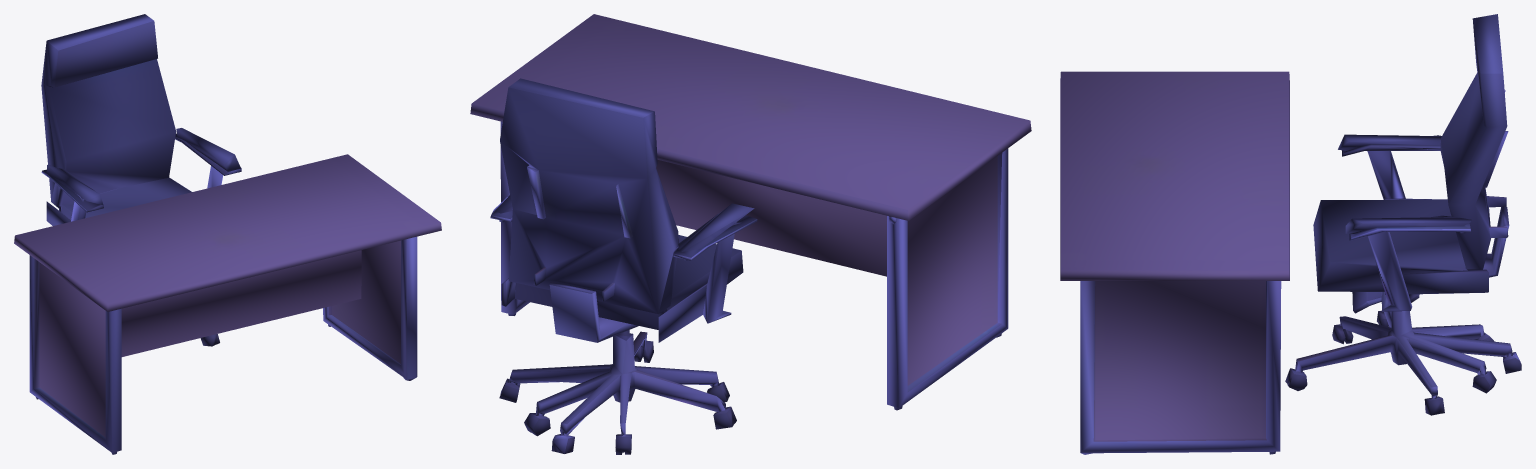
The model's file is model.progressive.glb.
The picture shows the model from 3 angles, left to right: view 1: azimuth 30°, elevation 25°; view 2: azimuth 150°, elevation 25°; view 3: azimuth 270°, elevation 25°; orthographic projection. The views are drawn at different scales.
Parts seen in each view (by area): view 1: texture_pbr_20250901; view 2: texture_pbr_20250901; view 3: texture_pbr_20250901.
Boxes of the visible parts, x1,y1,x2,y2 form: texture_pbr_20250901: (14, 14, 441, 454); texture_pbr_20250901: (470, 14, 1031, 454); texture_pbr_20250901: (1060, 14, 1521, 454).
Bounding box in the file's own units: 1.87 × 1.42 × 1.82.
Materials: 1 (1 with a texture image).
